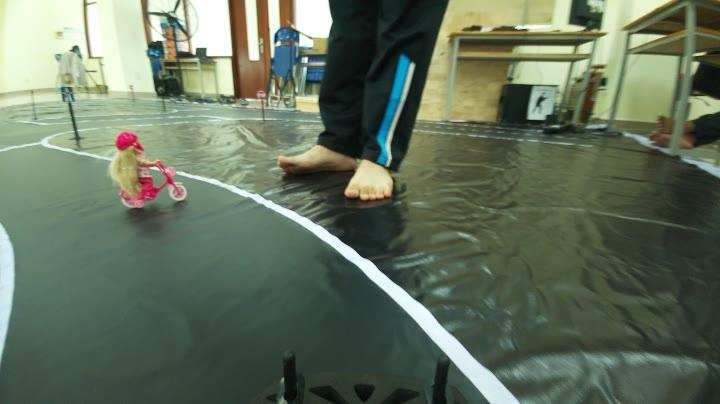pedestrian: (102, 125, 190, 200)
